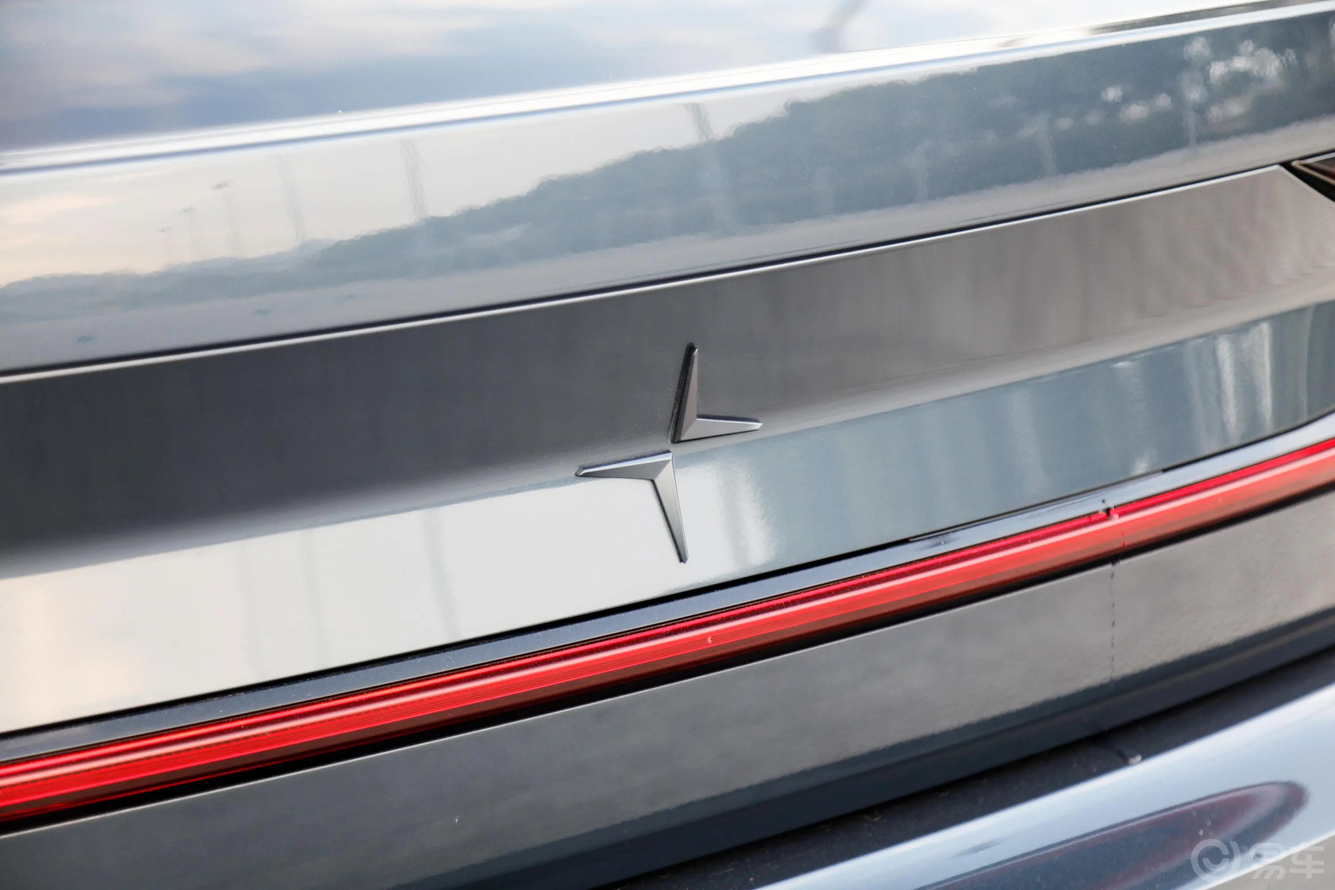Polestar: (577, 349, 762, 563)
